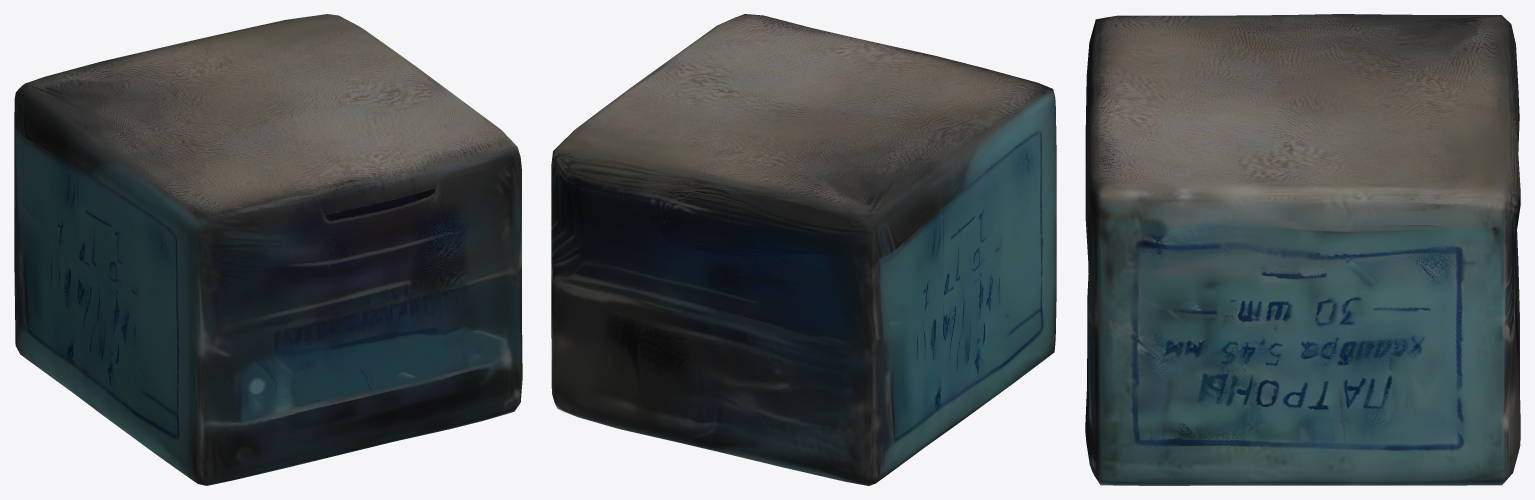
3 views of the same model, side by side, from view 1: azimuth 30°, elevation 25°; view 2: azimuth 150°, elevation 25°; view 3: azimuth 270°, elevation 25° (orthographic). The views are drawn at different scales.
Visible parts, largest first — view 1: tripo_node_6ff01ee8; view 2: tripo_node_6ff01ee8; view 3: tripo_node_6ff01ee8.
Part boxes in pixels (<box>): tripo_node_6ff01ee8: <box>14,14,522,485</box>; tripo_node_6ff01ee8: <box>551,14,1056,485</box>; tripo_node_6ff01ee8: <box>1085,14,1520,485</box>.
Size of the model in its own units: 0.9922 by 0.7878 by 1.
